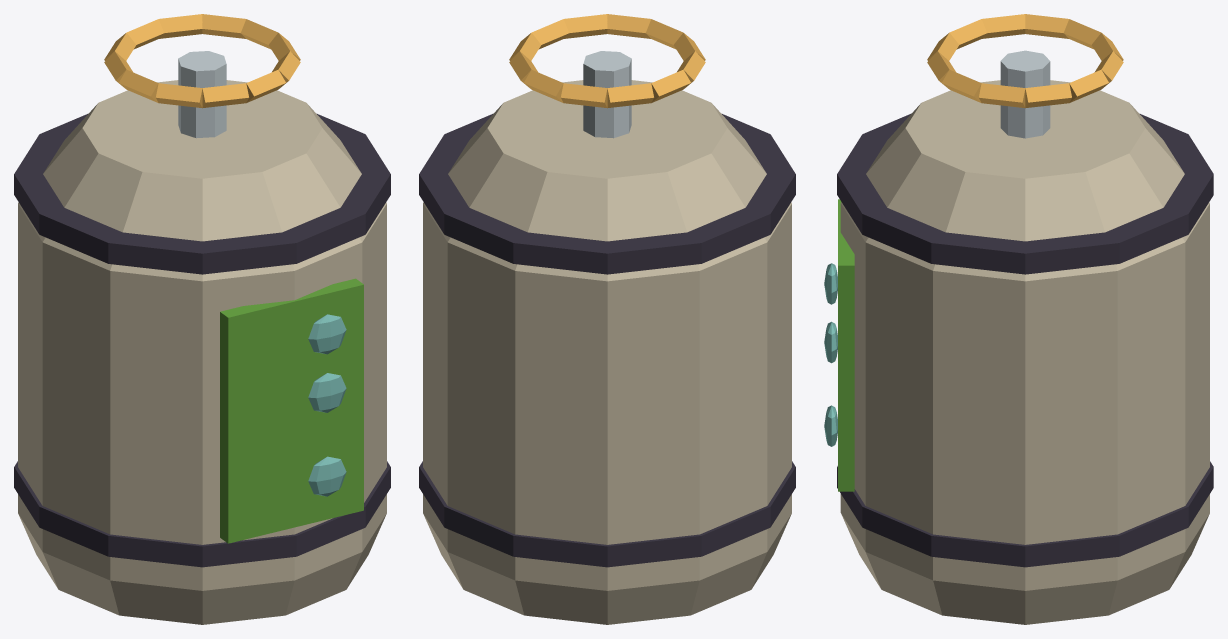
File: space_scene_o2_canister.glb
3 views of the same model, side by side, from view 1: azimuth 30°, elevation 25°; view 2: azimuth 150°, elevation 25°; view 3: azimuth 270°, elevation 25° (orthographic).
Parts seen in each view (by area): view 1: FixedDetails, BrassTrim; view 2: FixedDetails, BrassTrim; view 3: FixedDetails, BrassTrim.
Part boxes in pixels (box(x1,y1,x2,y2)): FixedDetails: box(14, 80, 390, 624); BrassTrim: box(104, 14, 300, 138); FixedDetails: box(419, 80, 795, 624); BrassTrim: box(509, 14, 705, 138); FixedDetails: box(824, 80, 1213, 624); BrassTrim: box(927, 14, 1123, 138).
Size of the model in its own units: 0.408 by 0.602 by 0.422.
